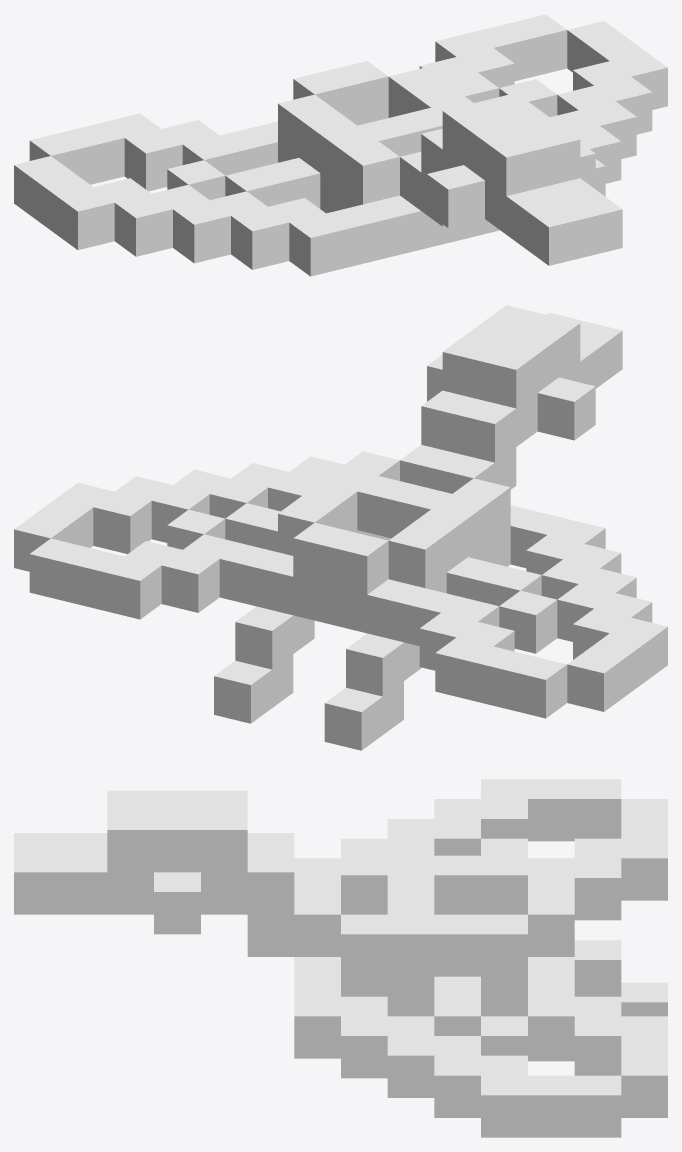
File: bird.gltf
The picture shows the model from 3 angles, top to bottom: view 1: azimuth 30°, elevation 25°; view 2: azimuth 150°, elevation 25°; view 3: azimuth 270°, elevation 25°; orthographic projection. The views are drawn at different scales.
Parts seen in each view (by area): view 1: Layer.1; view 2: Layer.1; view 3: Layer.1.
Boxes of the visible parts, x1,y1,x2,y2 form: Layer.1: [14, 14, 667, 276]; Layer.1: [14, 305, 667, 750]; Layer.1: [14, 779, 667, 1137].
Size of the model in its own units: 16 by 6 by 14.
1 material, 1 textured.
